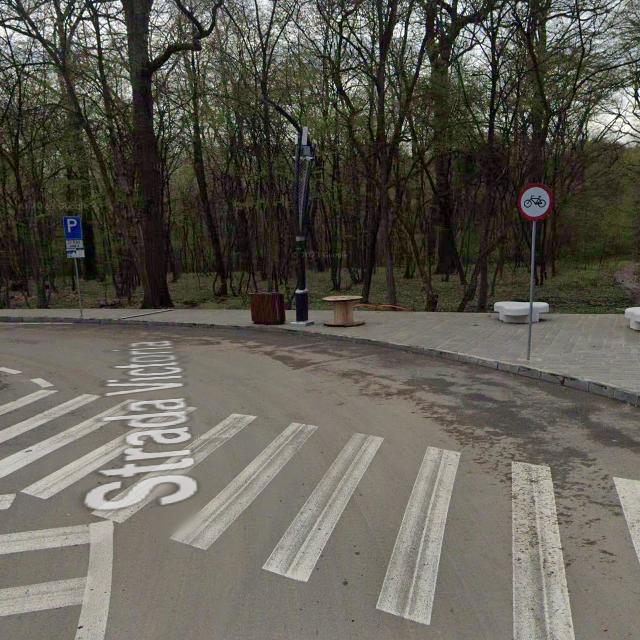info_parking: (63, 215, 81, 239)
